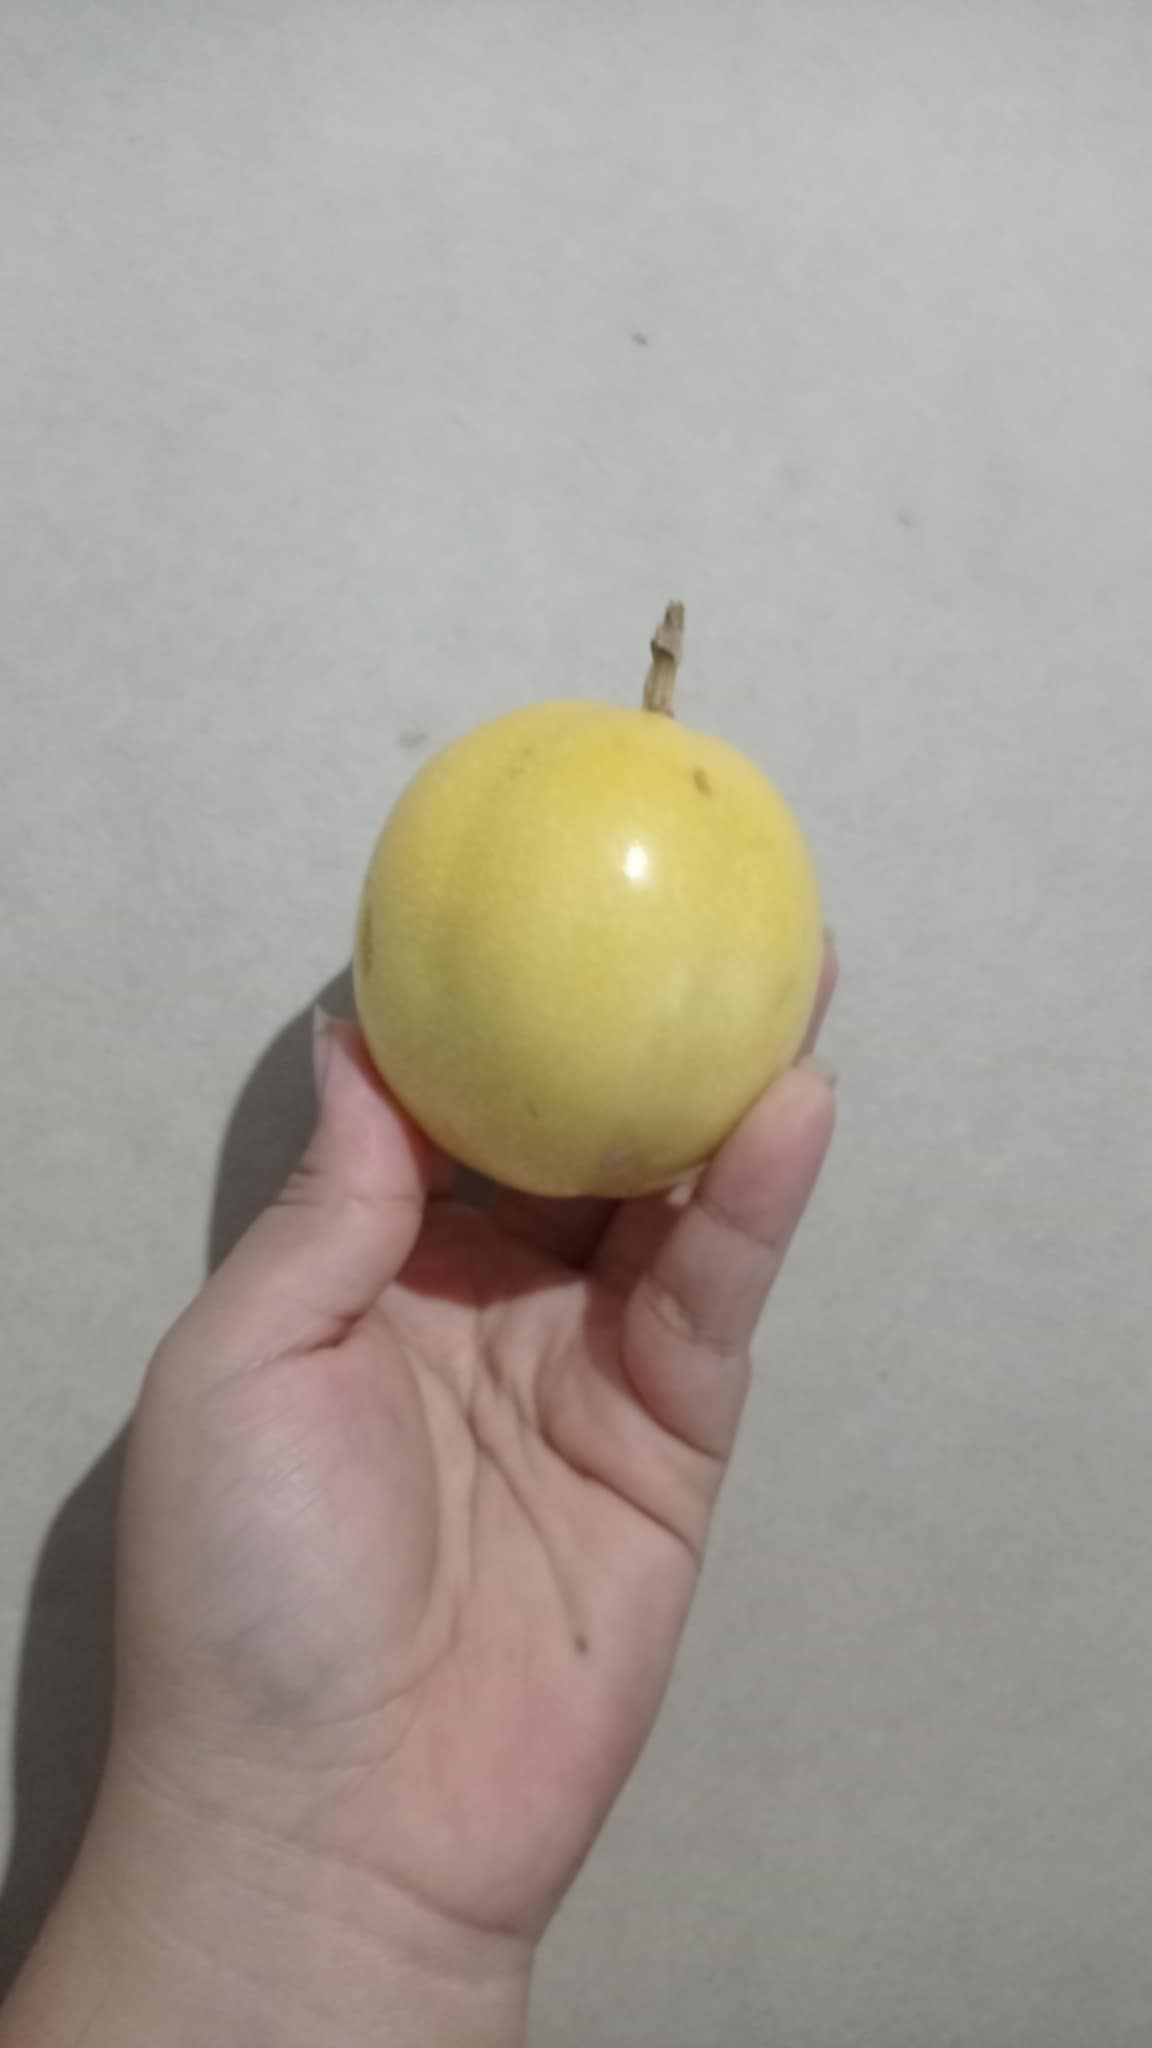maracuya: (333, 580, 843, 1222)
